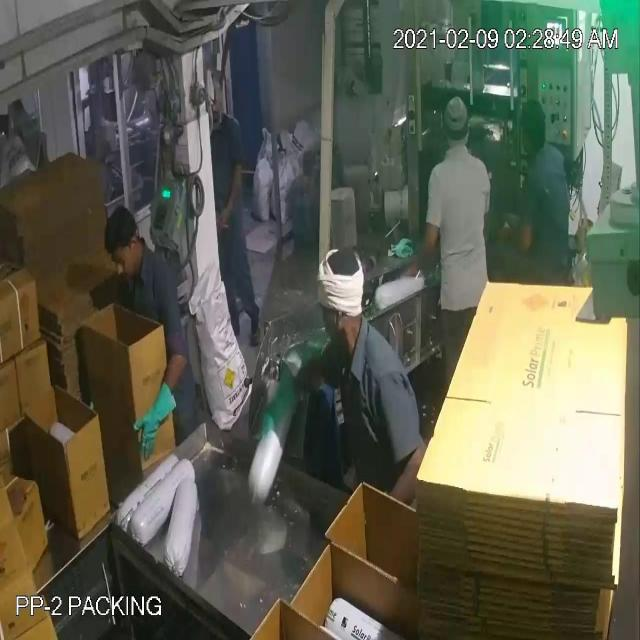Gloves: (26, 61, 423, 424)
